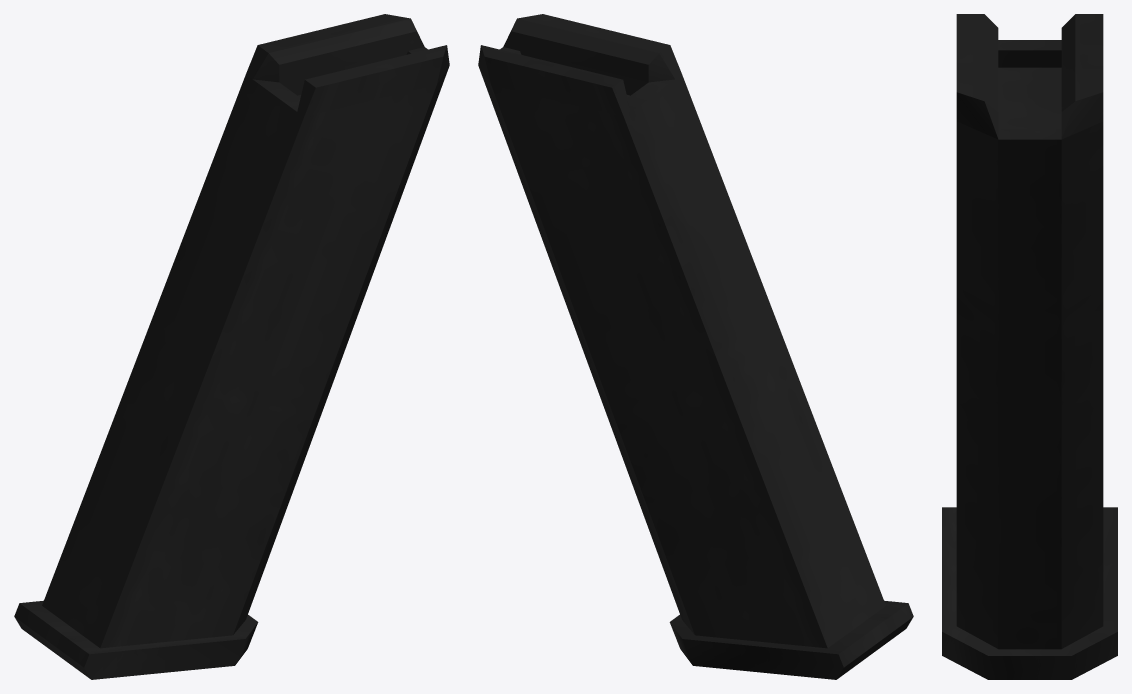
File: pistol_mp_1_mag_empty.obj
The picture shows the model from 3 angles, left to right: view 1: azimuth 30°, elevation 25°; view 2: azimuth 150°, elevation 25°; view 3: azimuth 270°, elevation 25°; orthographic projection. The views are drawn at different scales.
Visible parts, largest first — view 1: pistol_mp_1_mag_empty; view 2: pistol_mp_1_mag_empty; view 3: pistol_mp_1_mag_empty.
Boxes of the visible parts, x1,y1,x2,y2 form: pistol_mp_1_mag_empty: (14,14,449,679); pistol_mp_1_mag_empty: (478,14,913,679); pistol_mp_1_mag_empty: (942,14,1117,679).
Bounding box in the file's own units: 3.69 × 5.06 × 1.15.
1 material, 1 textured.
